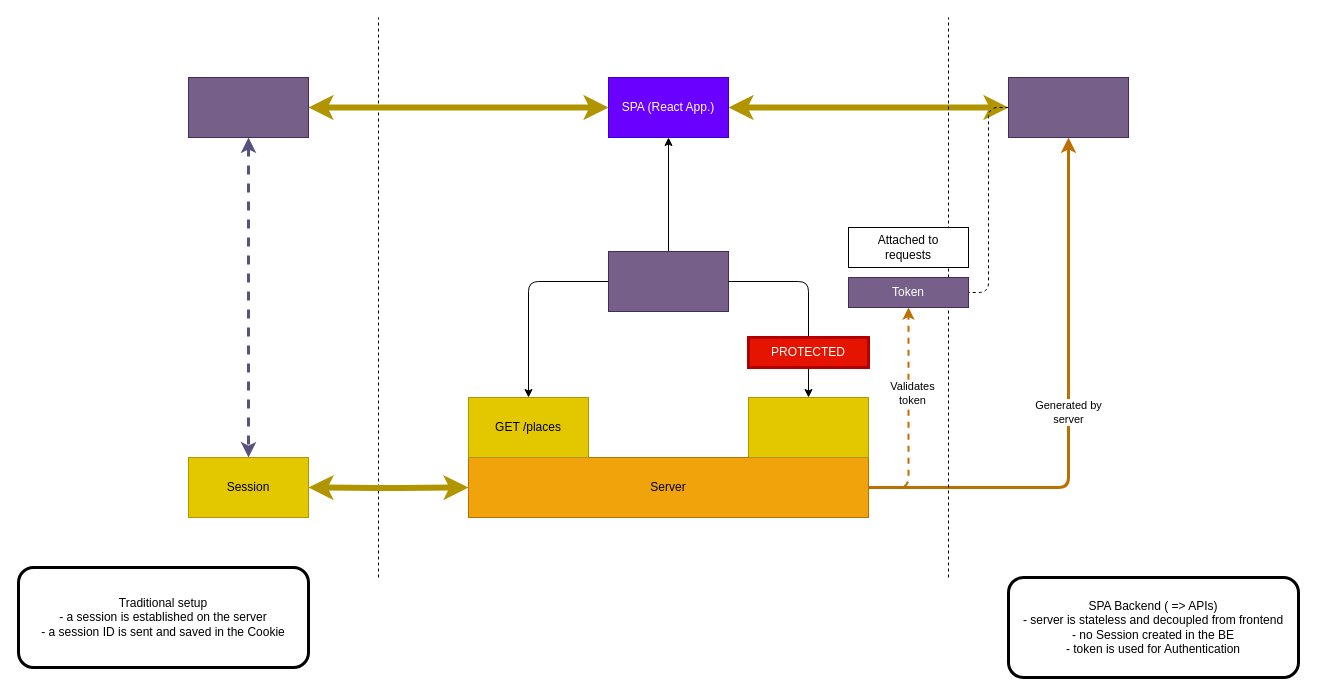
The diagram is 1317 pixels wide and 696 high, and some of its shapes have lost their labels. The shapes that lost their labels are listed below. From the top down, each one's centre as x and y in pixels, then its label:
point 248,107: Session ID (Cookie)
point 1068,107: Token (Cookie / localStorage)
point 668,281: HttpClient
point 808,427: POST /places
